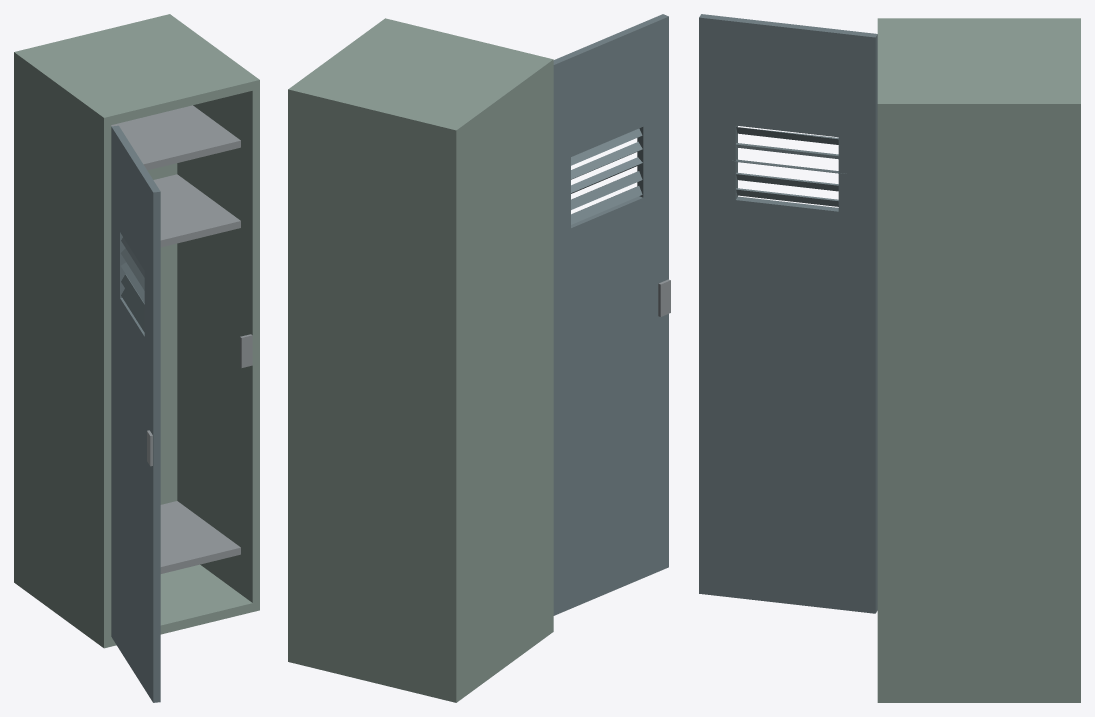
Rendered from Locker Open.fbx.
3 renders of one model, left to right at view 1: azimuth 30°, elevation 25°; view 2: azimuth 150°, elevation 25°; view 3: azimuth 270°, elevation 25°, orthographic. The views are drawn at different scales.
Visible parts, largest first — view 1: pCube77; view 2: pCube77; view 3: pCube77.
Boxes of the visible parts, <box> form: pCube77: <box>14,14,259,702</box>; pCube77: <box>288,14,670,702</box>; pCube77: <box>699,14,1080,702</box>.
Size of the model in its own units: 0.6119 by 1.66 by 0.9577.
